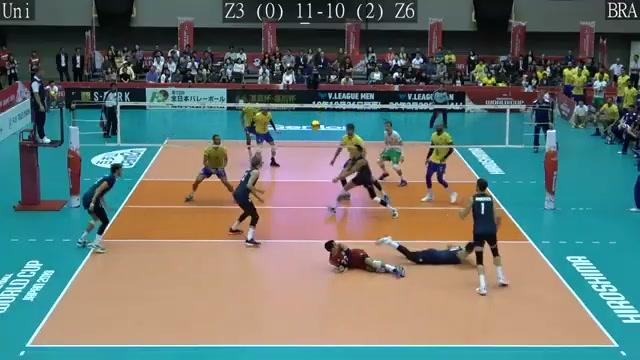ball: (306, 118, 323, 133)
